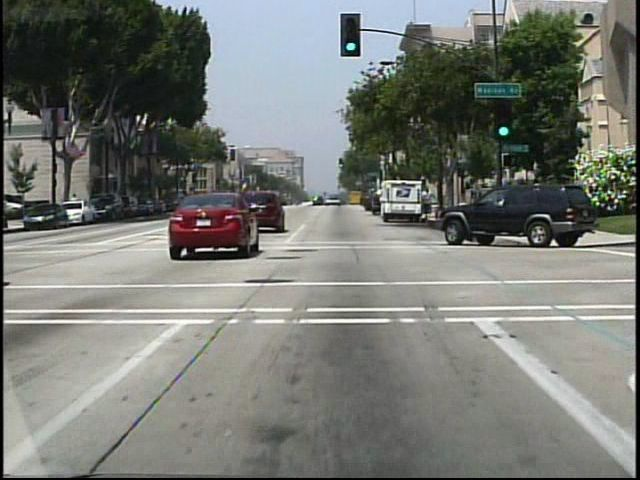person: (422, 187, 435, 219), (71, 191, 82, 216), (363, 191, 374, 214)
